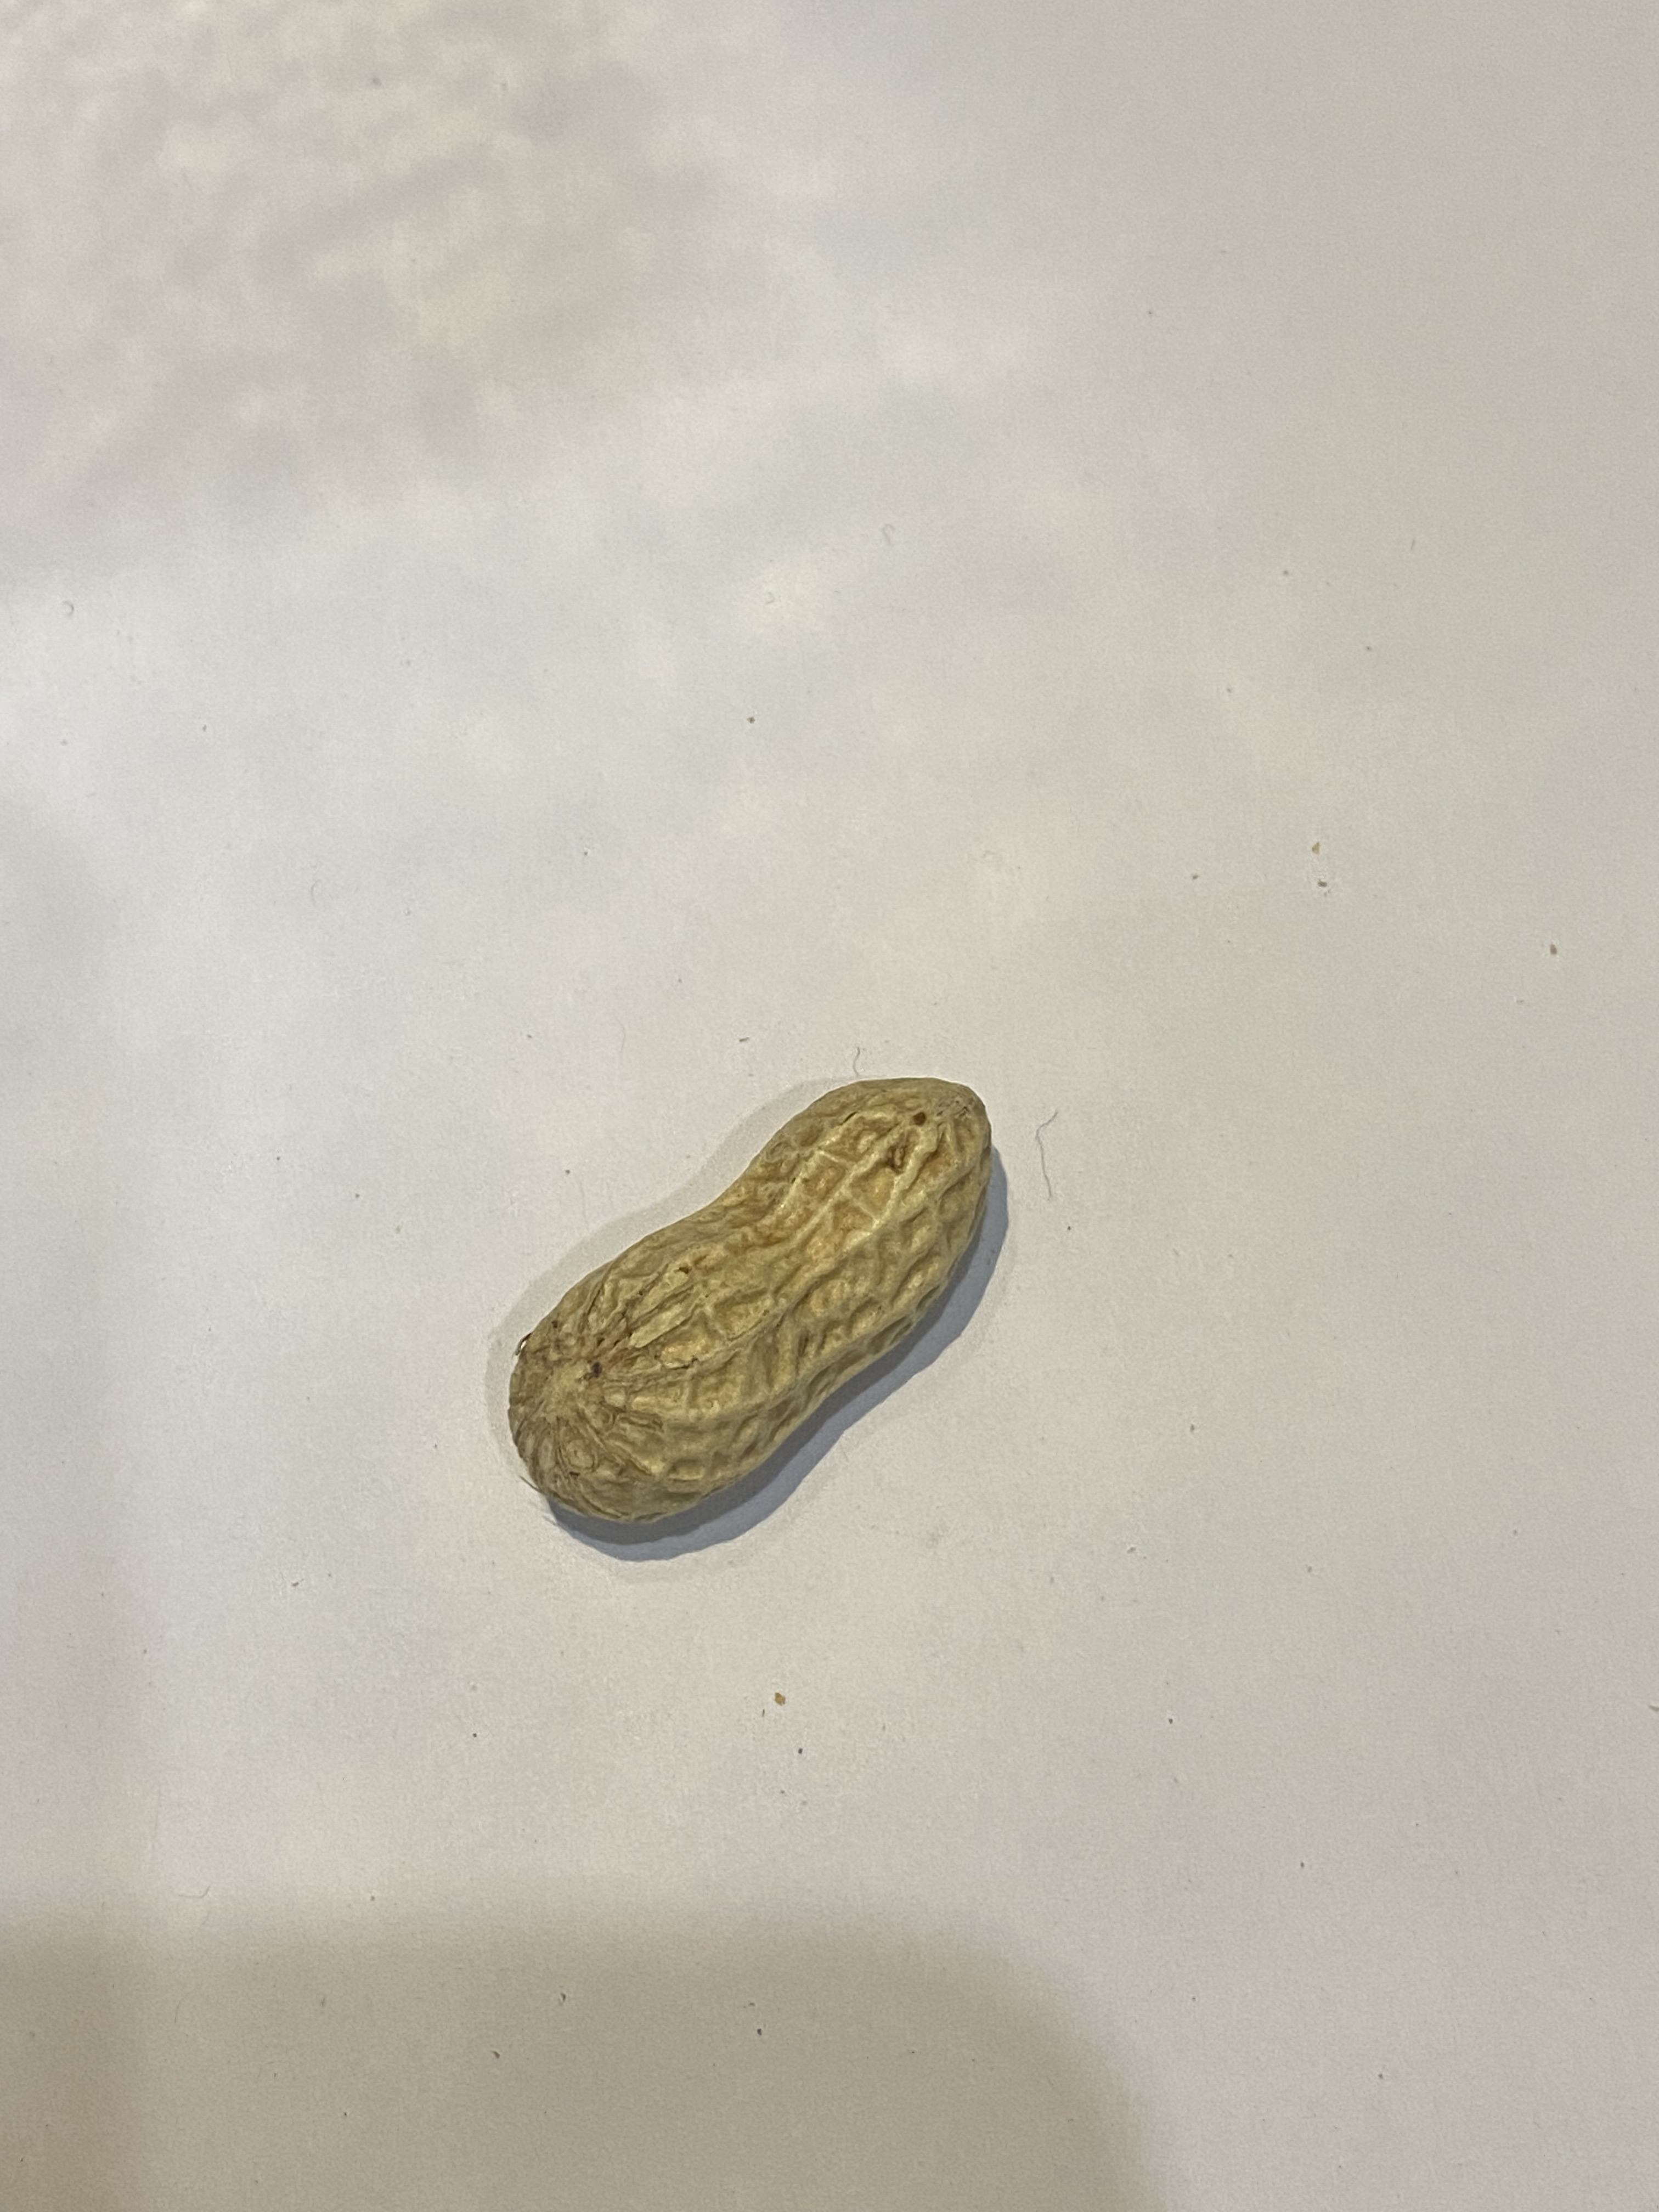kacang2: (484, 1064, 1044, 1531)
